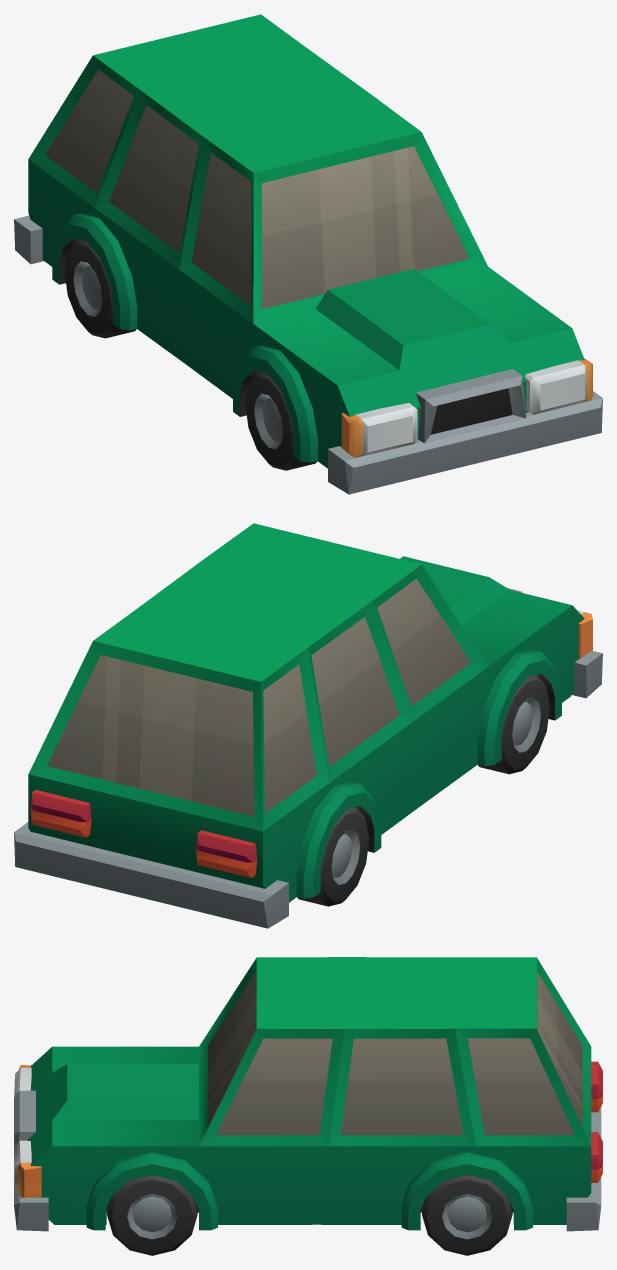
File: station-wagon.glb
3 renders of one model, top to bottom at view 1: azimuth 30°, elevation 25°; view 2: azimuth 150°, elevation 25°; view 3: azimuth 270°, elevation 25°, orthographic. The views are drawn at different scales.
Visible parts, largest first — view 1: Cube.13728, car_stationwagon_wheel_front_right, car_stationwagon_wheel_rear_right; view 2: Cube.13728, car_stationwagon_wheel_rear_right, car_stationwagon_wheel_front_right; view 3: Cube.13728, car_stationwagon_wheel_front_left, car_stationwagon_wheel_rear_left.
Boxes of the visible parts, box(x1,y1,x2,y2) form: Cube.13728: box(14, 14, 602, 494); car_stationwagon_wheel_front_right: box(245, 371, 317, 470); car_stationwagon_wheel_rear_right: box(64, 239, 136, 338); Cube.13728: box(14, 523, 602, 928); car_stationwagon_wheel_rear_right: box(297, 807, 369, 906); car_stationwagon_wheel_front_right: box(478, 675, 549, 774); Cube.13728: box(14, 957, 602, 1231); car_stationwagon_wheel_front_left: box(107, 1175, 197, 1255); car_stationwagon_wheel_rear_left: box(422, 1175, 512, 1255).
Bounding box in the file's own units: 2.14 × 1.89 × 4.8.
1 material, 1 textured.
